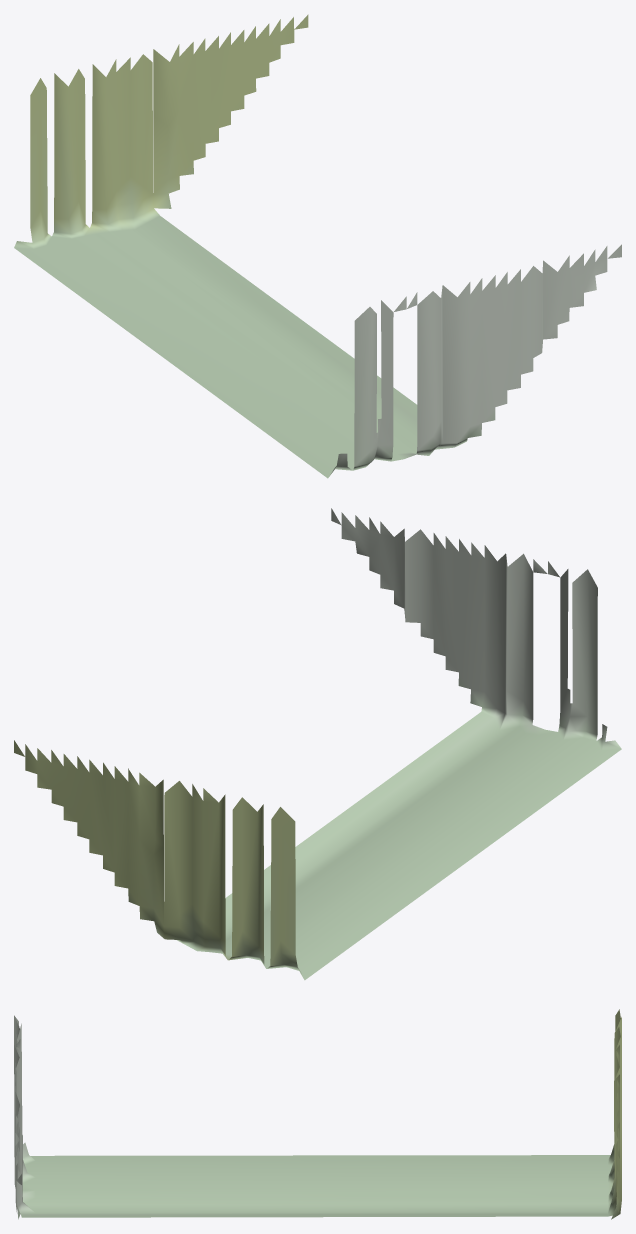
Rendered from tile_7e4ccbd5fe0e_0_-1_-2_0_lod2.glb.
The picture shows the model from 3 angles, top to bottom: view 1: azimuth 30°, elevation 25°; view 2: azimuth 150°, elevation 25°; view 3: azimuth 270°, elevation 25°; orthographic projection. The views are drawn at different scales.
Size of the model in its own units: 1.84 by 1.03 by 3.48.
